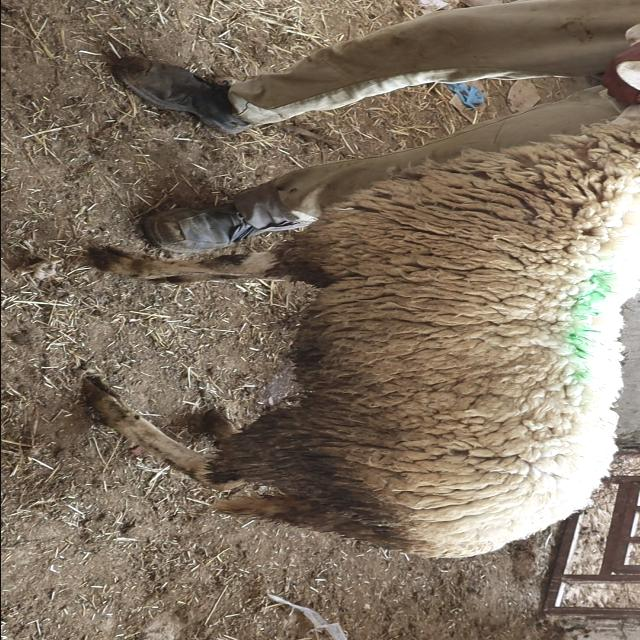Score_3: (84, 121, 640, 557)
